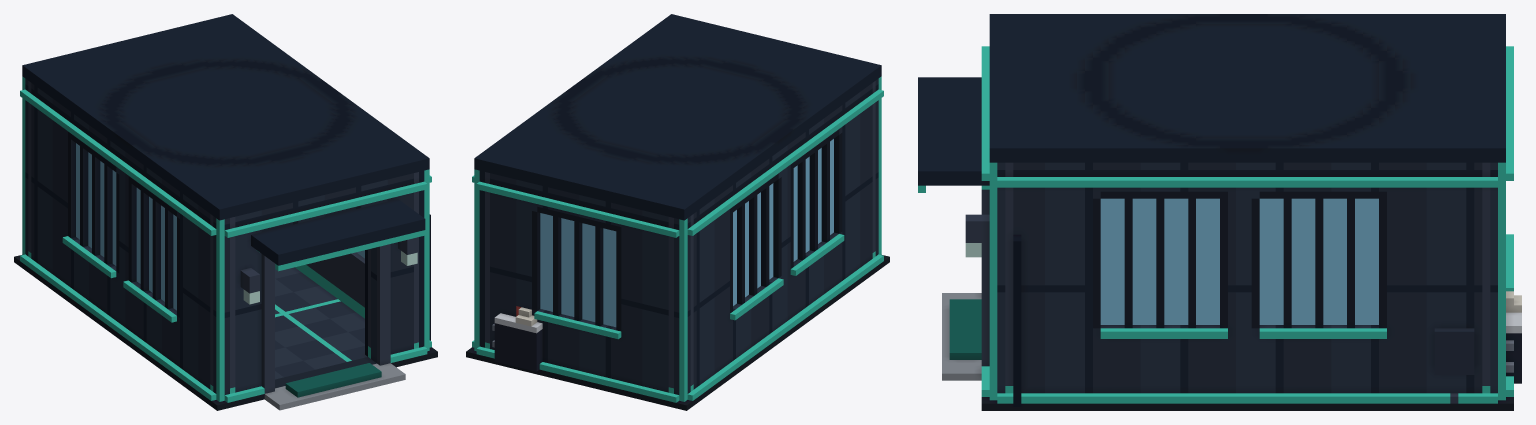
File: lab_e4_l2.glb
The picture shows the model from 3 angles, left to right: view 1: azimuth 30°, elevation 25°; view 2: azimuth 150°, elevation 25°; view 3: azimuth 270°, elevation 25°; orthographic projection. The views are drawn at different scales.
Parts seen in each view (by area): view 1: CutRoof, Base, CutNX, CutPZ, CutNZ; view 2: CutRoof, CutNZ, CutNX, Base, CutPZ; view 3: CutPX, CutRoof, Base, CutPZ, CutNZ.
Boxes of the visible parts, x1,y1,x2,y2 form: CutRoof: (22,14,429,220); Base: (14,208,437,410); CutNX: (20,83,216,345); CutPZ: (210,169,430,352); CutNZ: (22,76,31,214); CutRoof: (474,14,881,220); CutNZ: (474,169,693,352); CutNX: (687,83,883,345); Base: (466,208,889,410); CutPZ: (872,76,881,214); CutPX: (997,162,1497,338); CutRoof: (989,14,1505,162); Base: (942,291,1521,410); CutPZ: (918,46,1021,342); CutNZ: (1482,46,1513,335).
Bounding box in the file's own units: 4.3 × 3.6 × 7.6.
